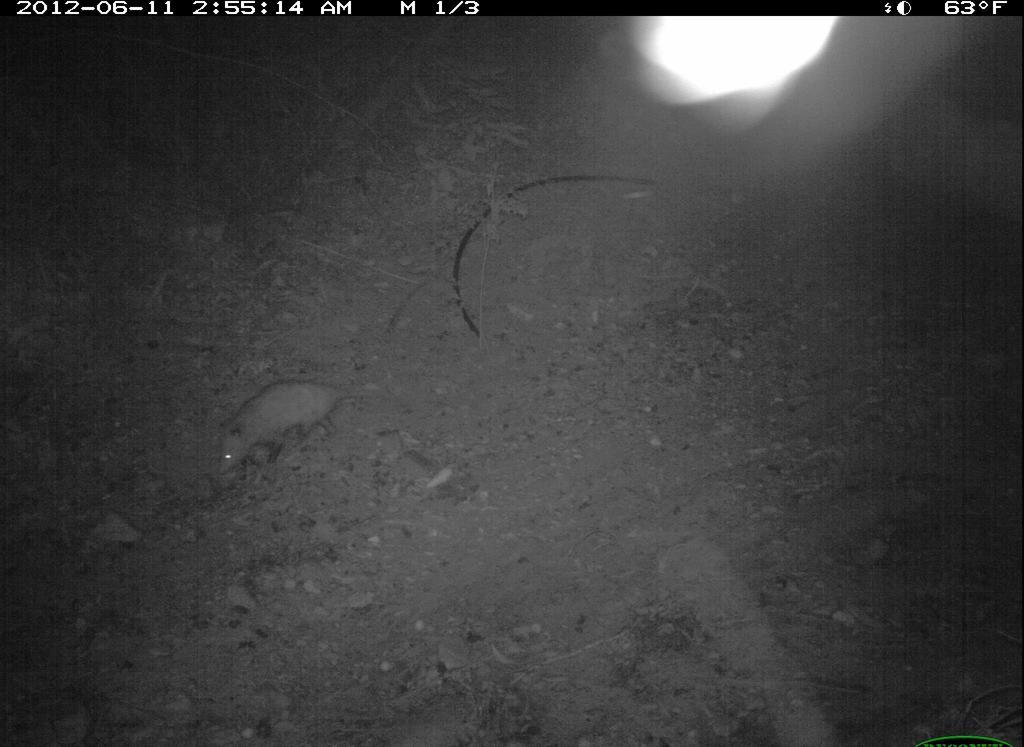opossum: (207, 370, 400, 496)
